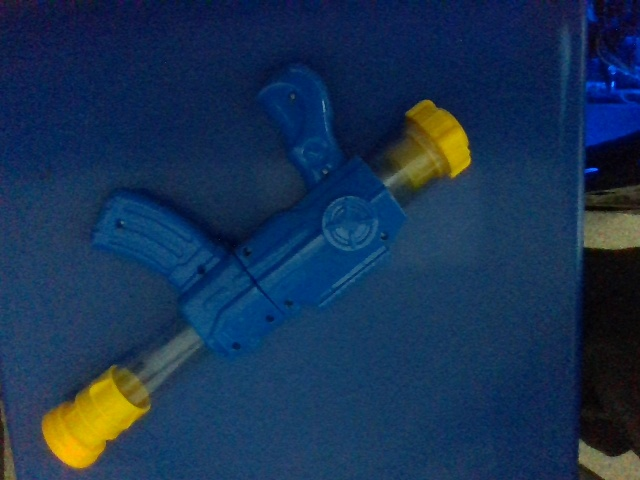screw hole: (378, 231, 389, 244), (114, 218, 125, 230), (196, 263, 206, 275), (242, 246, 252, 258), (320, 168, 331, 178), (231, 342, 243, 351), (285, 300, 296, 309), (265, 313, 275, 322), (290, 91, 296, 98)
toy: (40, 60, 471, 469)
